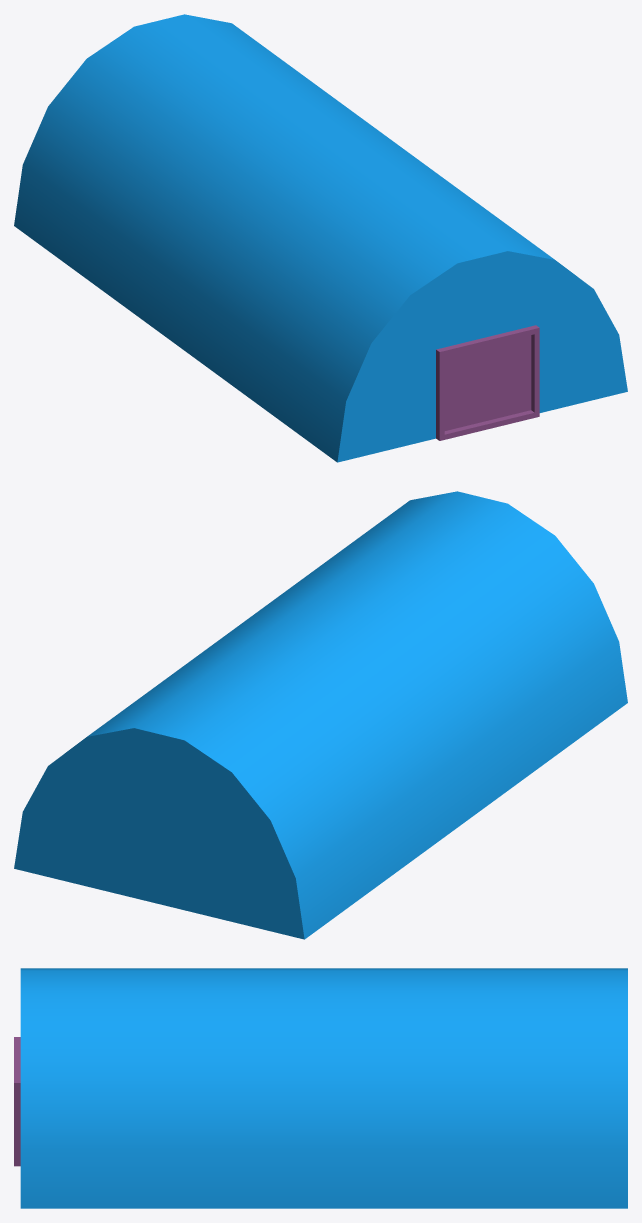
File: dom.FBX
3 views of the same model, one above another, from view 1: azimuth 30°, elevation 25°; view 2: azimuth 150°, elevation 25°; view 3: azimuth 270°, elevation 25° (orthographic). The views are drawn at different scales.
Visible parts, largest first — view 1: ChamferCyl001, ChamferBox001; view 2: ChamferCyl001; view 3: ChamferCyl001, ChamferBox001.
Boxes of the visible parts, x1,y1,x2,y2 form: ChamferCyl001: (14, 14, 627, 462); ChamferBox001: (436, 325, 539, 440); ChamferCyl001: (14, 491, 627, 939); ChamferCyl001: (20, 968, 627, 1208); ChamferBox001: (14, 1037, 20, 1166).
Bounding box in the file's own units: 58.11 × 32.48 × 113.
